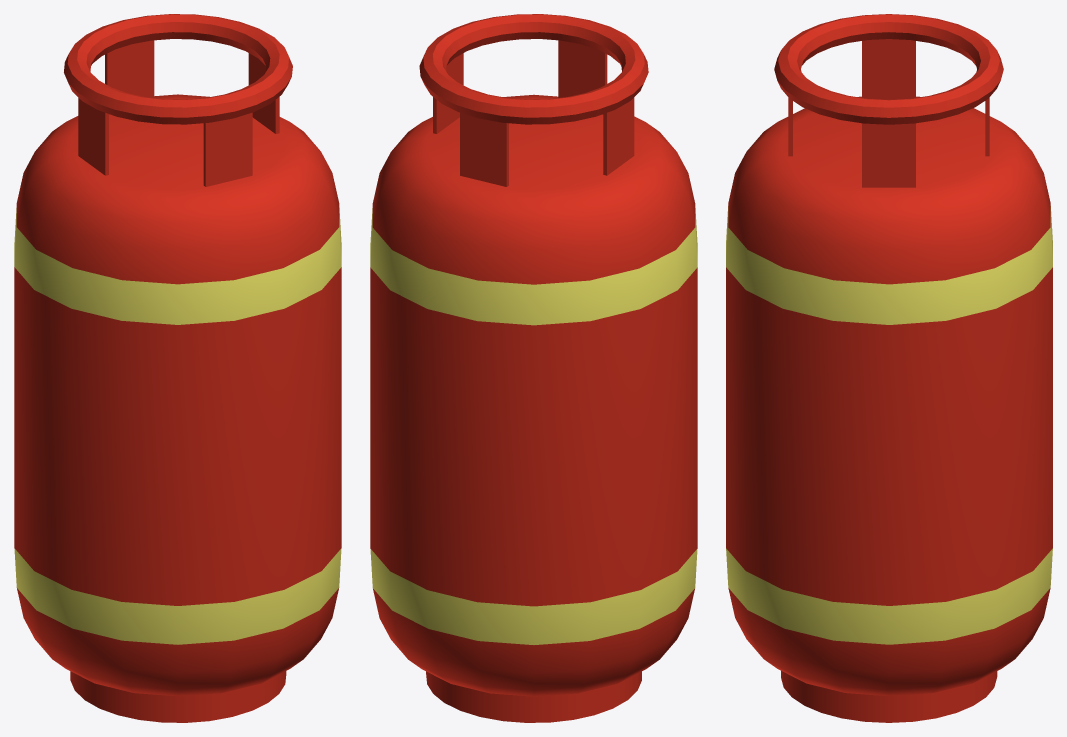
Rendered from 11 Gas_Cylinder_1.FBX.
3 views of the same model, side by side, from view 1: azimuth 30°, elevation 25°; view 2: azimuth 150°, elevation 25°; view 3: azimuth 270°, elevation 25° (orthographic).
Visible parts, largest first — view 1: Gas_Cylinder_8; view 2: Gas_Cylinder_8; view 3: Gas_Cylinder_8.
Part boxes in pixels (x1=…): Gas_Cylinder_8: x1=14, y1=14, x2=341, y2=722; Gas_Cylinder_8: x1=370, y1=14, x2=697, y2=722; Gas_Cylinder_8: x1=726, y1=14, x2=1052, y2=722.
Bounding box in the file's own units: 300 × 618 × 295.
